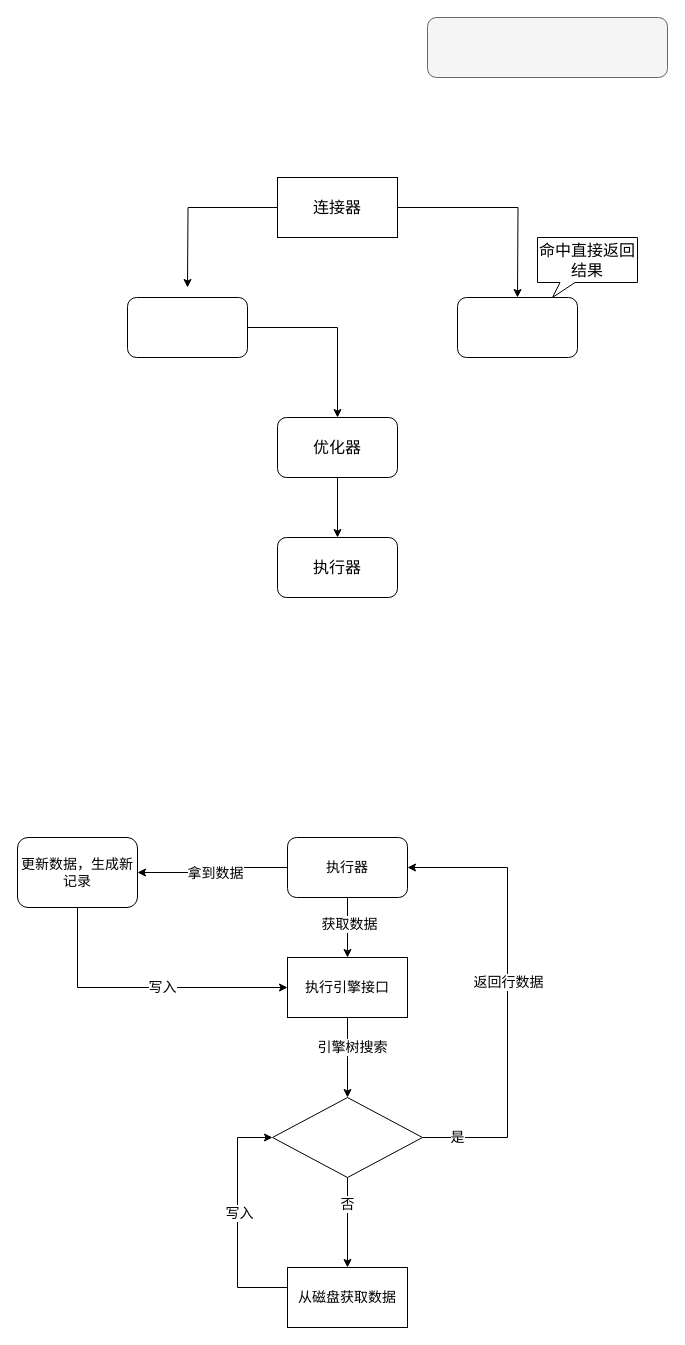
This 685x1345 diagram has some shape labels left out. Each missing label, with the centre of its shape:
一条SQL是如何执行的: the point at 547,47
内存（数据页）: the point at 347,1137
分析器: the point at 187,327
查询缓存: the point at 517,327
